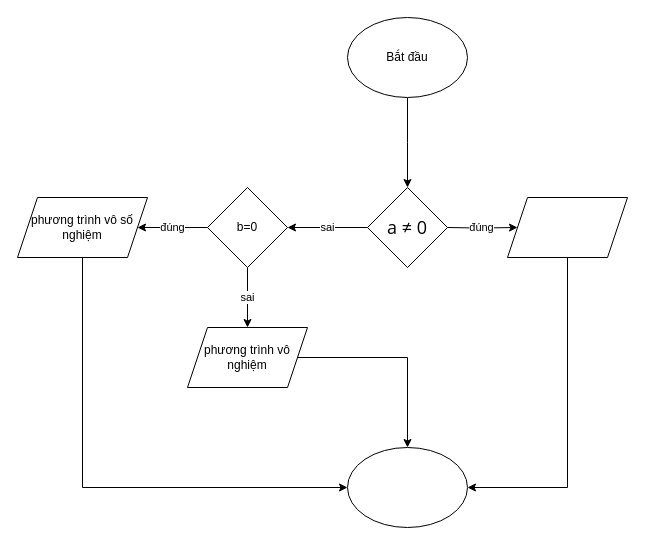
Image size: 645x545. Some labels were removed from this diagram. Here are the shapes that lost their labels. From the top down, the box of each, then its label:
(506, 196, 628, 258): phương trình có 1 nghiệm x=-b/a
(346, 446, 468, 528): kết thúc
